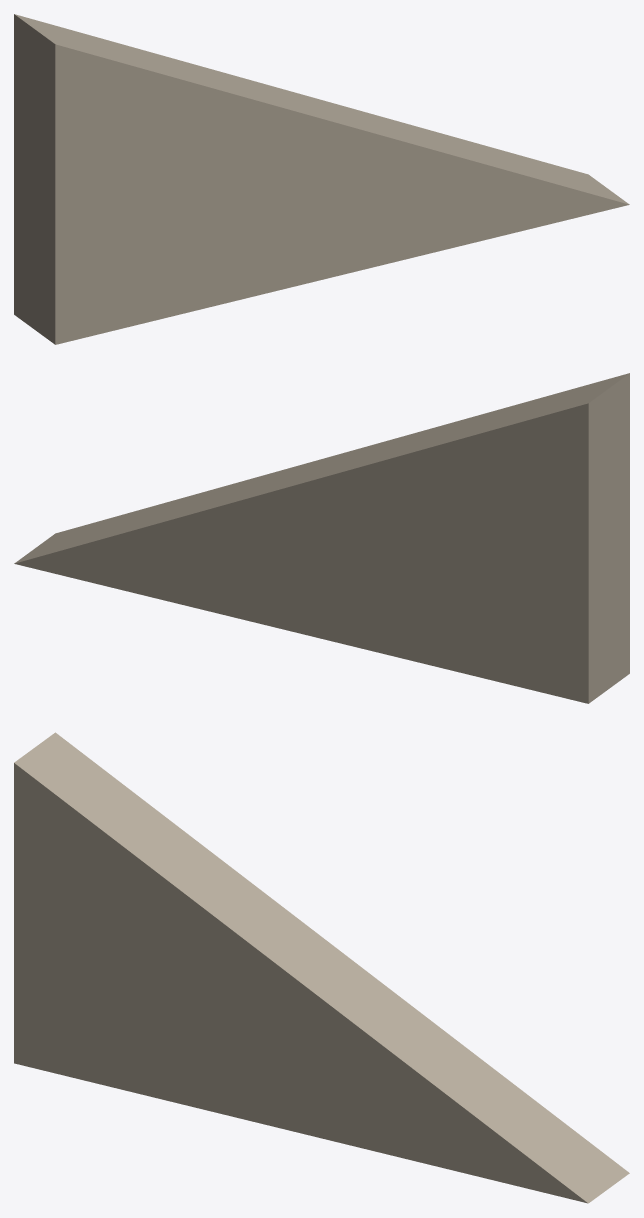
File: Village_Wall_Plaster_2m_Slant_A.fbx
3 views of the same model, one above another, from view 1: azimuth 30°, elevation 25°; view 2: azimuth 150°, elevation 25°; view 3: azimuth 330°, elevation 25° (orthographic).
Parts seen in each view (by area): view 1: Village_Wall_2m_Roof_A.051; view 2: Village_Wall_2m_Roof_A.051; view 3: Village_Wall_2m_Roof_A.051.
Part boxes in pixels (x1,y1,x2,y2): Village_Wall_2m_Roof_A.051: (14, 14, 629, 344); Village_Wall_2m_Roof_A.051: (14, 373, 629, 703); Village_Wall_2m_Roof_A.051: (14, 732, 629, 1203).
Bounding box in the file's own units: 200 × 100 × 25.
